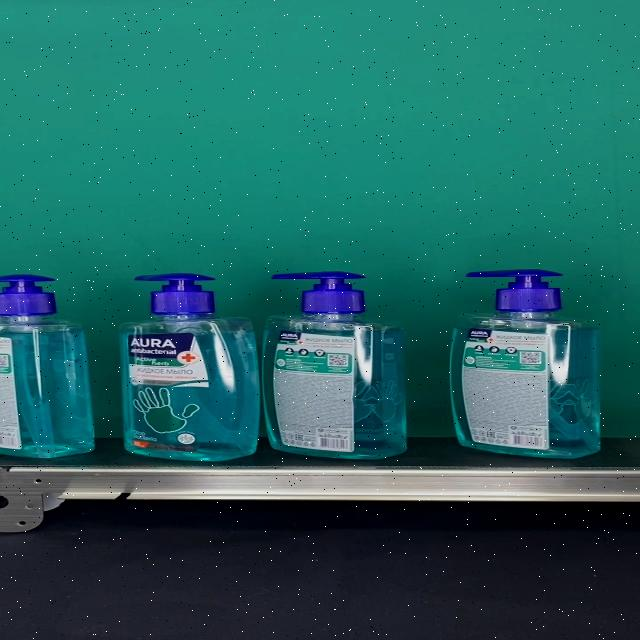Bottle: (448, 270, 600, 458), (261, 273, 407, 459), (118, 273, 259, 461)
Cap: (466, 270, 566, 313), (270, 273, 366, 315), (134, 273, 216, 315)
